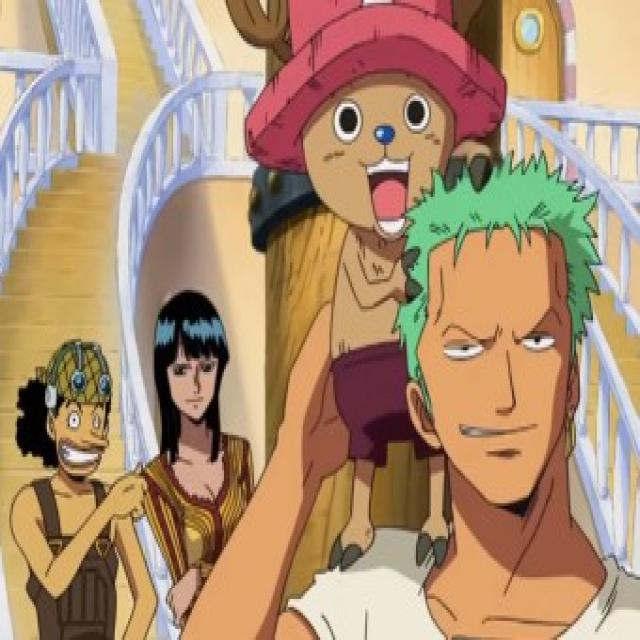Chyopa: (224, 0, 510, 227)
NicoRobin: (147, 276, 242, 483)
Usopp: (4, 323, 121, 488)
Zoro: (402, 154, 598, 518)
